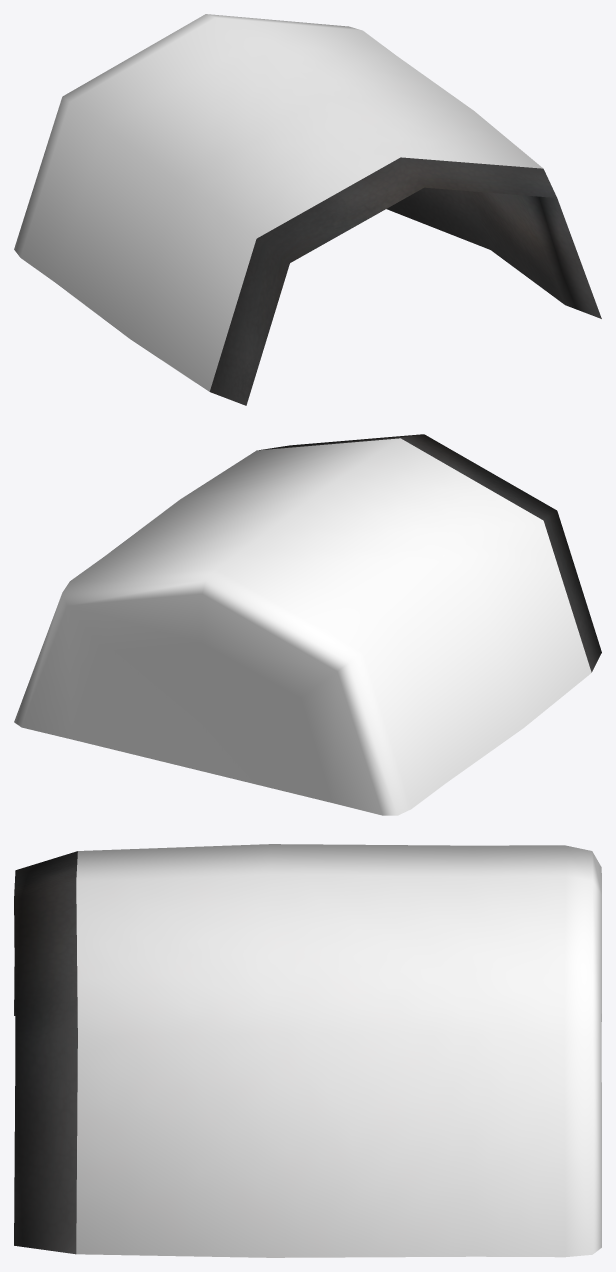
File: Tomb.fbx
The picture shows the model from 3 angles, top to bottom: view 1: azimuth 30°, elevation 25°; view 2: azimuth 150°, elevation 25°; view 3: azimuth 270°, elevation 25°; orthographic projection. The views are drawn at different scales.
Parts seen in each view (by area): view 1: Tomb; view 2: Tomb; view 3: Tomb.
Boxes of the visible parts, left/top/right/bottom form: Tomb: left=14, top=14, right=601, bottom=405; Tomb: left=14, top=434, right=601, bottom=815; Tomb: left=14, top=844, right=601, bottom=1257.
Size of the model in its own units: 3293 by 1548 by 3221.
